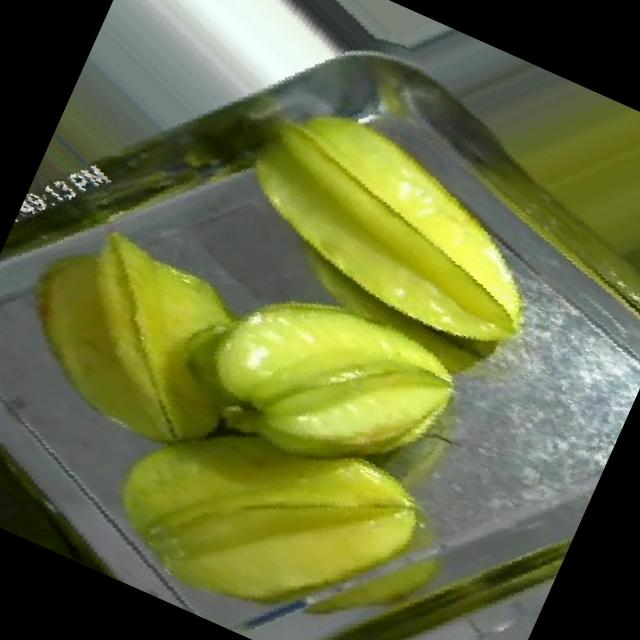fruit: (172, 51, 608, 434), (135, 196, 527, 558), (52, 332, 480, 640), (0, 153, 333, 528), (370, 36, 640, 382)
